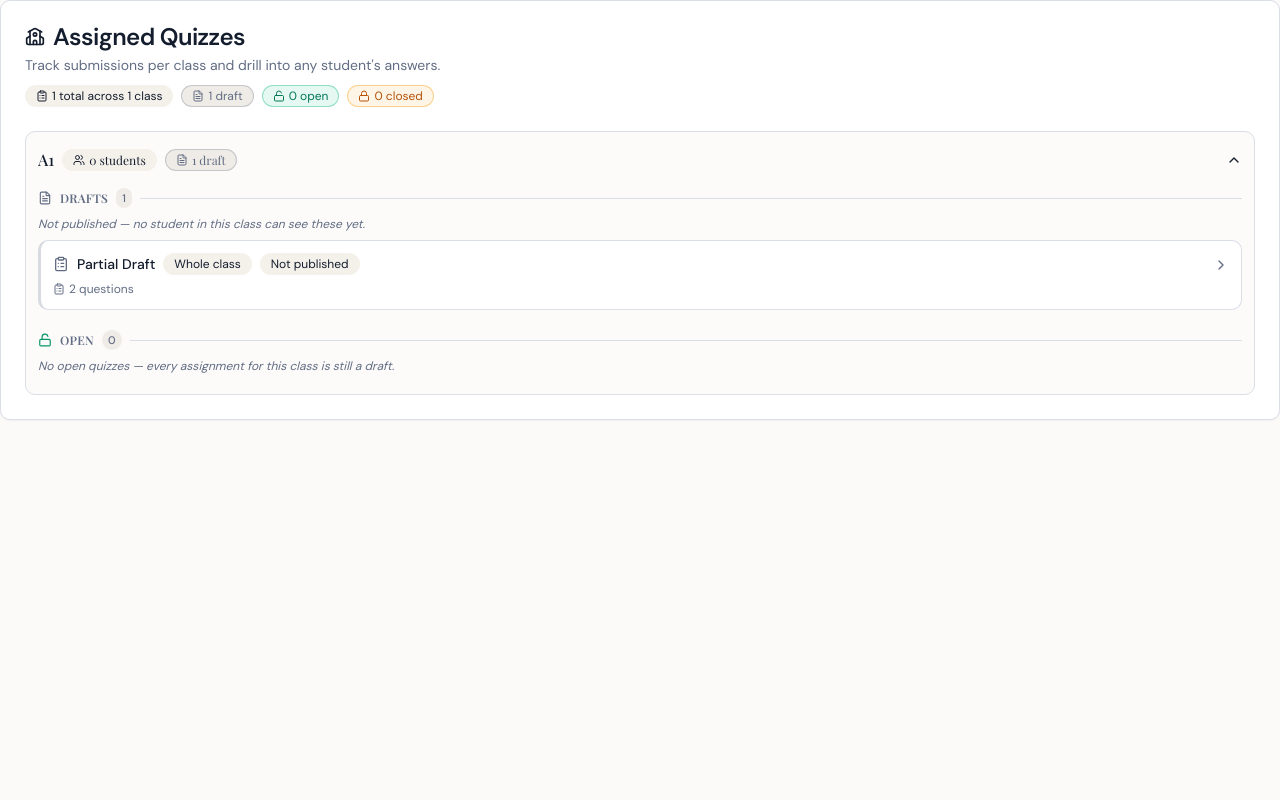
Test: AssignedQuizzesBoard › blocks publishing while a generation job is still queued
Step 1. Click the button "Partial Draft Whole class Not published 2 questions" → (116, 264), box [41, 241, 1241, 309]
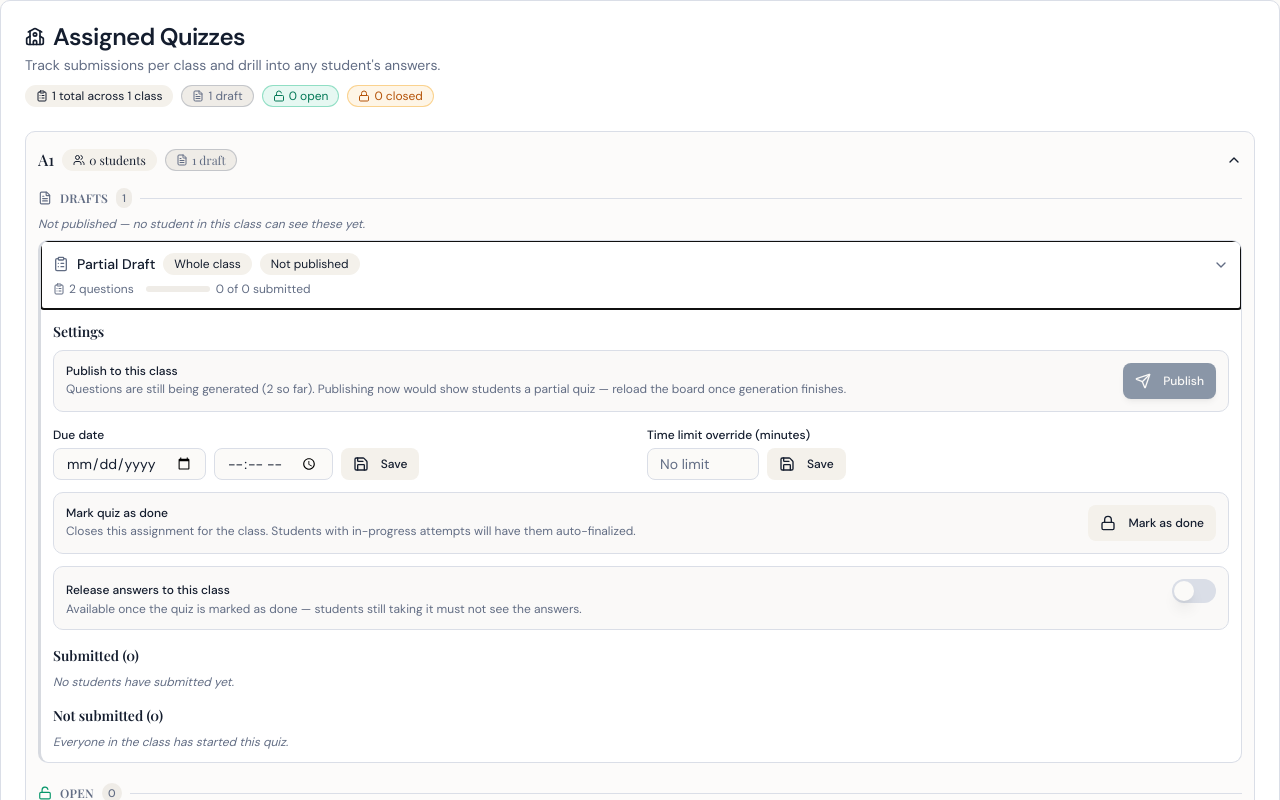
Now the button with test id "publish-oq-gen" is disabled, box [1123, 363, 1216, 399]
